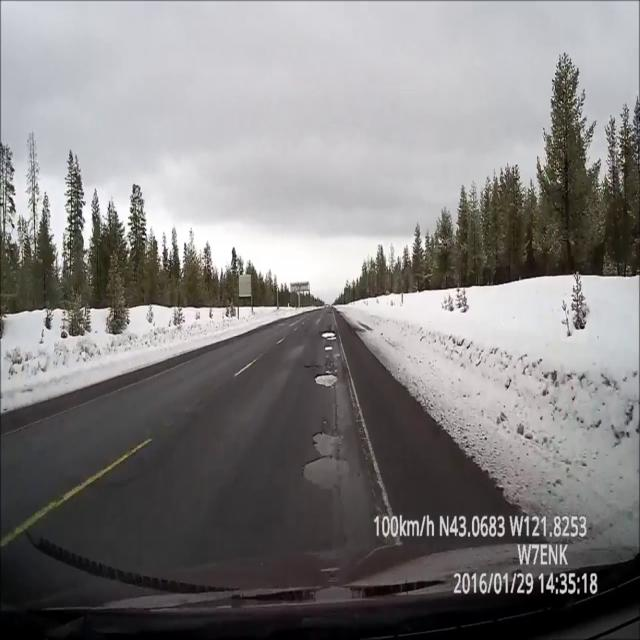Pothole: (302, 455, 352, 490), (310, 428, 350, 456), (314, 374, 340, 389), (321, 330, 337, 340), (324, 345, 333, 351), (328, 311, 332, 314)
